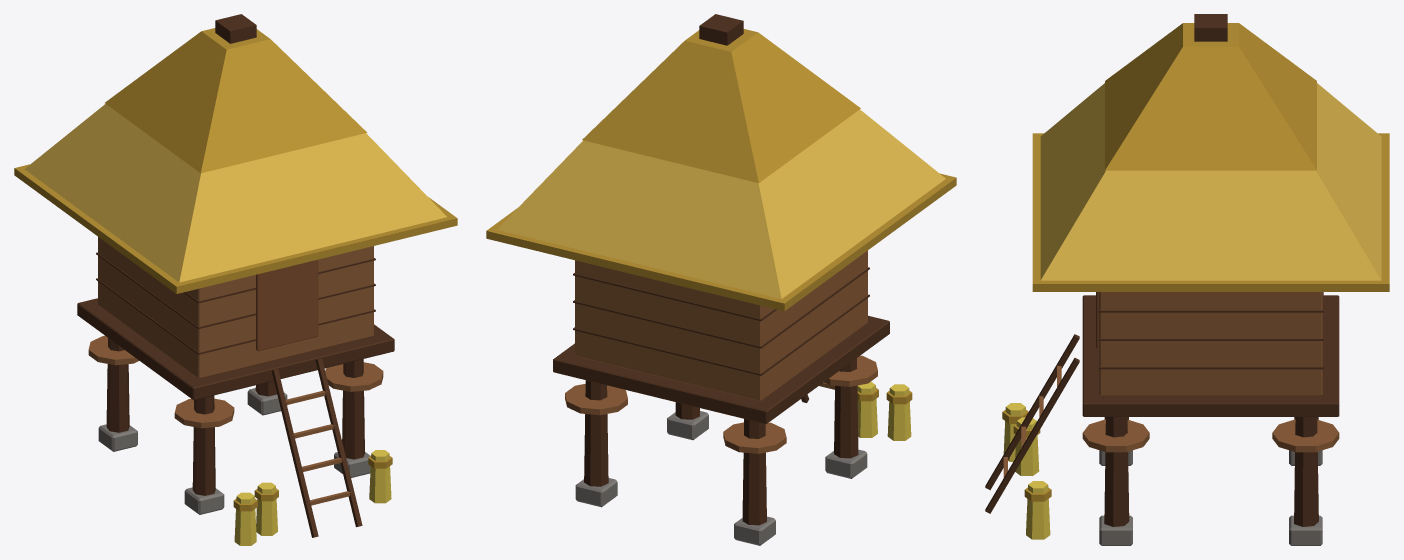
The model's file is lumbung_padi_v001.glb.
The picture shows the model from 3 angles, left to right: view 1: azimuth 30°, elevation 25°; view 2: azimuth 150°, elevation 25°; view 3: azimuth 270°, elevation 25°; orthographic projection. The views are drawn at different scales.
Parts seen in each view (by area): view 1: Lumbung_Padi; view 2: Lumbung_Padi; view 3: Lumbung_Padi.
Part boxes in pixels (x1=…): Lumbung_Padi: x1=14, y1=14, x2=457, y2=545; Lumbung_Padi: x1=486, y1=14, x2=956, y2=545; Lumbung_Padi: x1=985, y1=14, x2=1389, y2=545.
Bounding box in the file's own units: 3.2 × 4.75 × 3.62.
